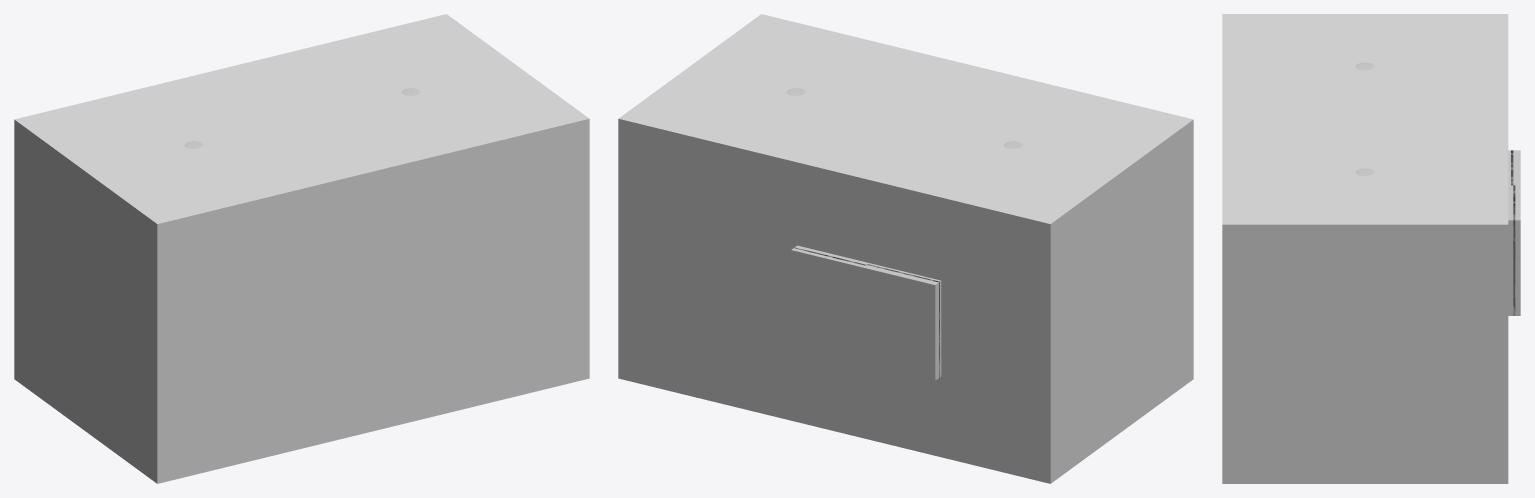
The model's file is salon.glb.
3 views of the same model, side by side, from view 1: azimuth 30°, elevation 25°; view 2: azimuth 150°, elevation 25°; view 3: azimuth 270°, elevation 25° (orthographic).
Parts seen in each view (by area): view 1: Cube.001; view 2: Cube.001; view 3: Cube.001.
Part boxes in pixels (x1=…): Cube.001: x1=14, y1=14, x2=589, y2=483; Cube.001: x1=618, y1=14, x2=1193, y2=483; Cube.001: x1=1222, y1=14, x2=1520, y2=483.
Bounding box in the file's own units: 10.25 × 5.89 × 6.13.
4 materials, 2 textured.
